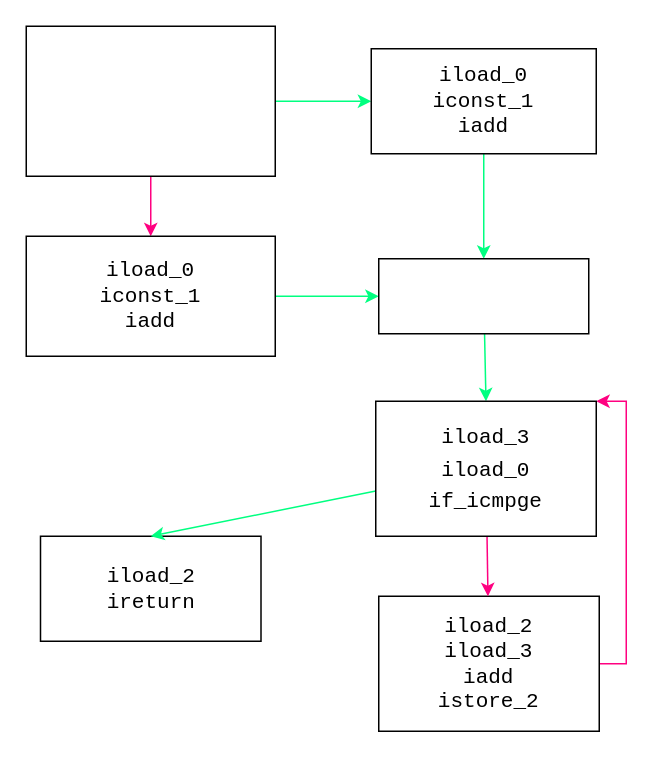
Image size: 665x758. Some labels were removed from this diagram. The centre of each missing label's shape, as x and y in pixels:
iconst_0 istore_2 iload_0 iload_1 if_icmple: point 150,100
istroe_3: point 483,295
